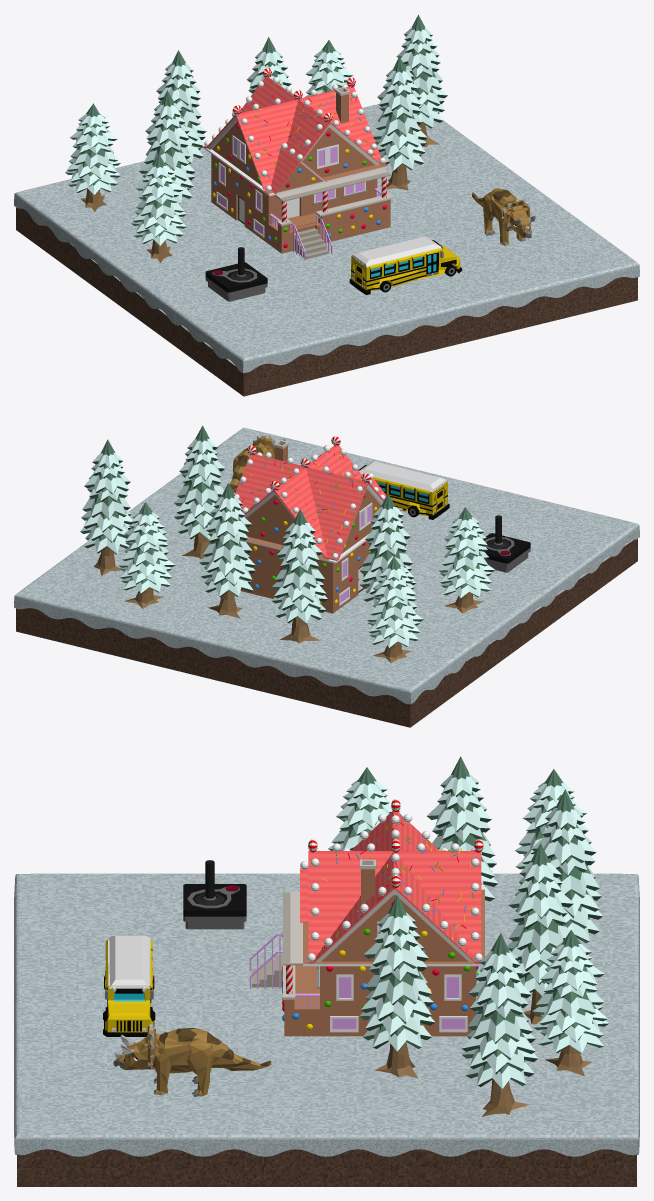
The picture shows the model from 3 angles, top to bottom: view 1: azimuth 30°, elevation 25°; view 2: azimuth 150°, elevation 25°; view 3: azimuth 270°, elevation 25°; orthographic projection. The views are drawn at different scales.
Visible parts, largest first — view 1: Cube.003, Cube.1203, VEHICLES_SCHOOL_BUS, ANIMAL_Triceratops, OBJRANDOM_JOYSTICK; view 2: Cube.003, Cube.1203, VEHICLES_SCHOOL_BUS, OBJRANDOM_JOYSTICK, ANIMAL_Triceratops; view 3: Cube.003, Cube.1203, ANIMAL_Triceratops, VEHICLES_SCHOOL_BUS, OBJRANDOM_JOYSTICK.
Part boxes in pixels (x1,y1,x2,y2): Cube.003: (14, 14, 639, 396); Cube.1203: (202, 68, 393, 260); VEHICLES_SCHOOL_BUS: (349, 236, 462, 294); ANIMAL_Triceratops: (472, 188, 535, 245); OBJRANDOM_JOYSTICK: (205, 247, 267, 301); Cube.003: (14, 425, 639, 727); Cube.1203: (234, 436, 405, 613); VEHICLES_SCHOOL_BUS: (358, 461, 449, 519); OBJRANDOM_JOYSTICK: (484, 515, 530, 572); ANIMAL_Triceratops: (229, 435, 285, 492); Cube.003: (14, 756, 639, 1186); Cube.1203: (249, 799, 484, 1036); ANIMAL_Triceratops: (113, 1023, 271, 1096); VEHICLES_SCHOOL_BUS: (103, 936, 155, 1036); OBJRANDOM_JOYSTICK: (183, 860, 246, 929).
Size of the model in its own units: 4040 by 1695 by 4040.
Materials: 46 (4 with a texture image).
